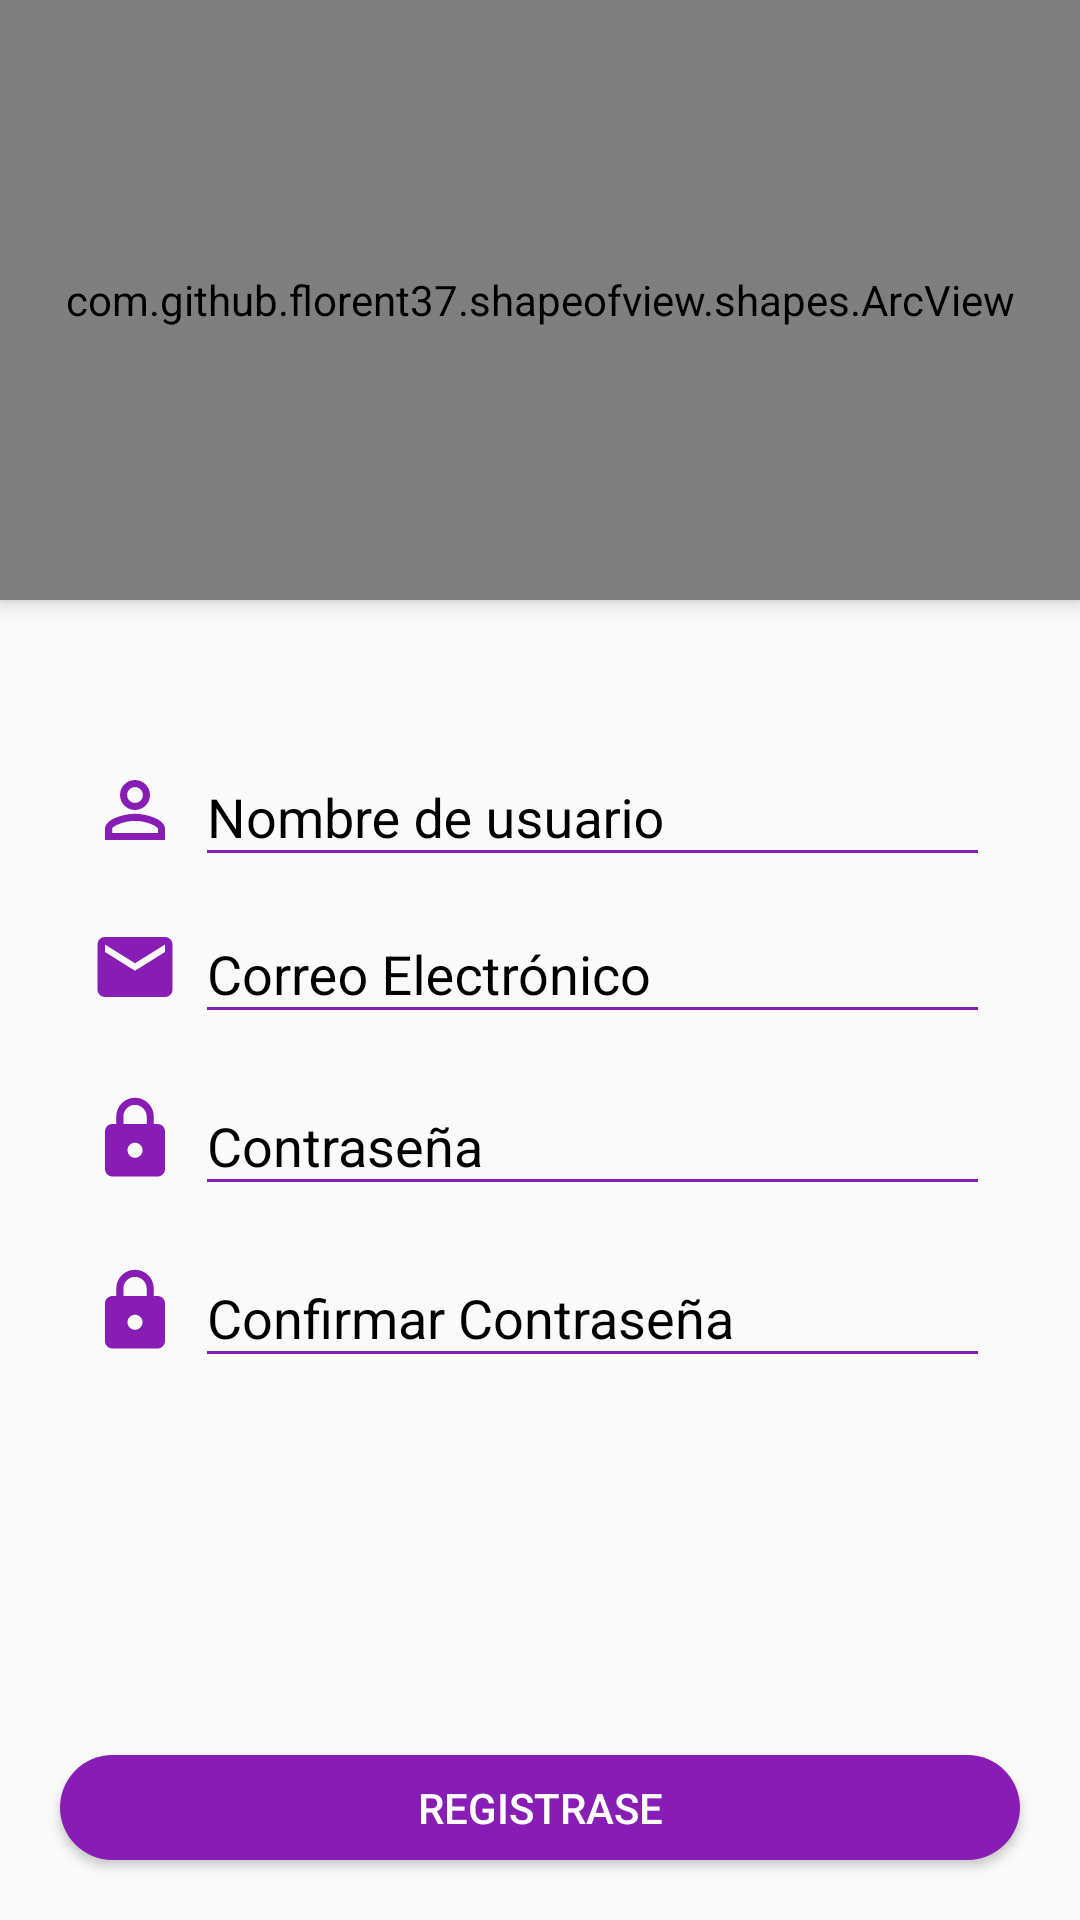

Screen size 1080w x 1920h. Icon name, then its box in pixels as bbox=[x1, y1, x2, y2]:
candado: bbox=[105, 1097, 165, 1177], bbox=[105, 1269, 165, 1349]
email: bbox=[97, 937, 173, 997]
person: bbox=[105, 780, 165, 840]
